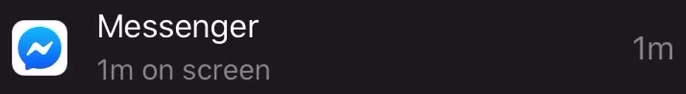name: (87, 2, 268, 48)
time: (90, 54, 139, 86)
